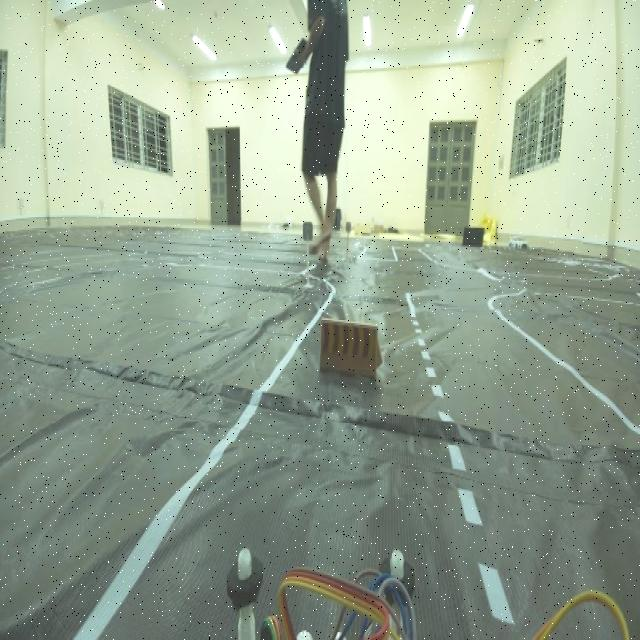roadblock: (314, 307, 394, 403)
